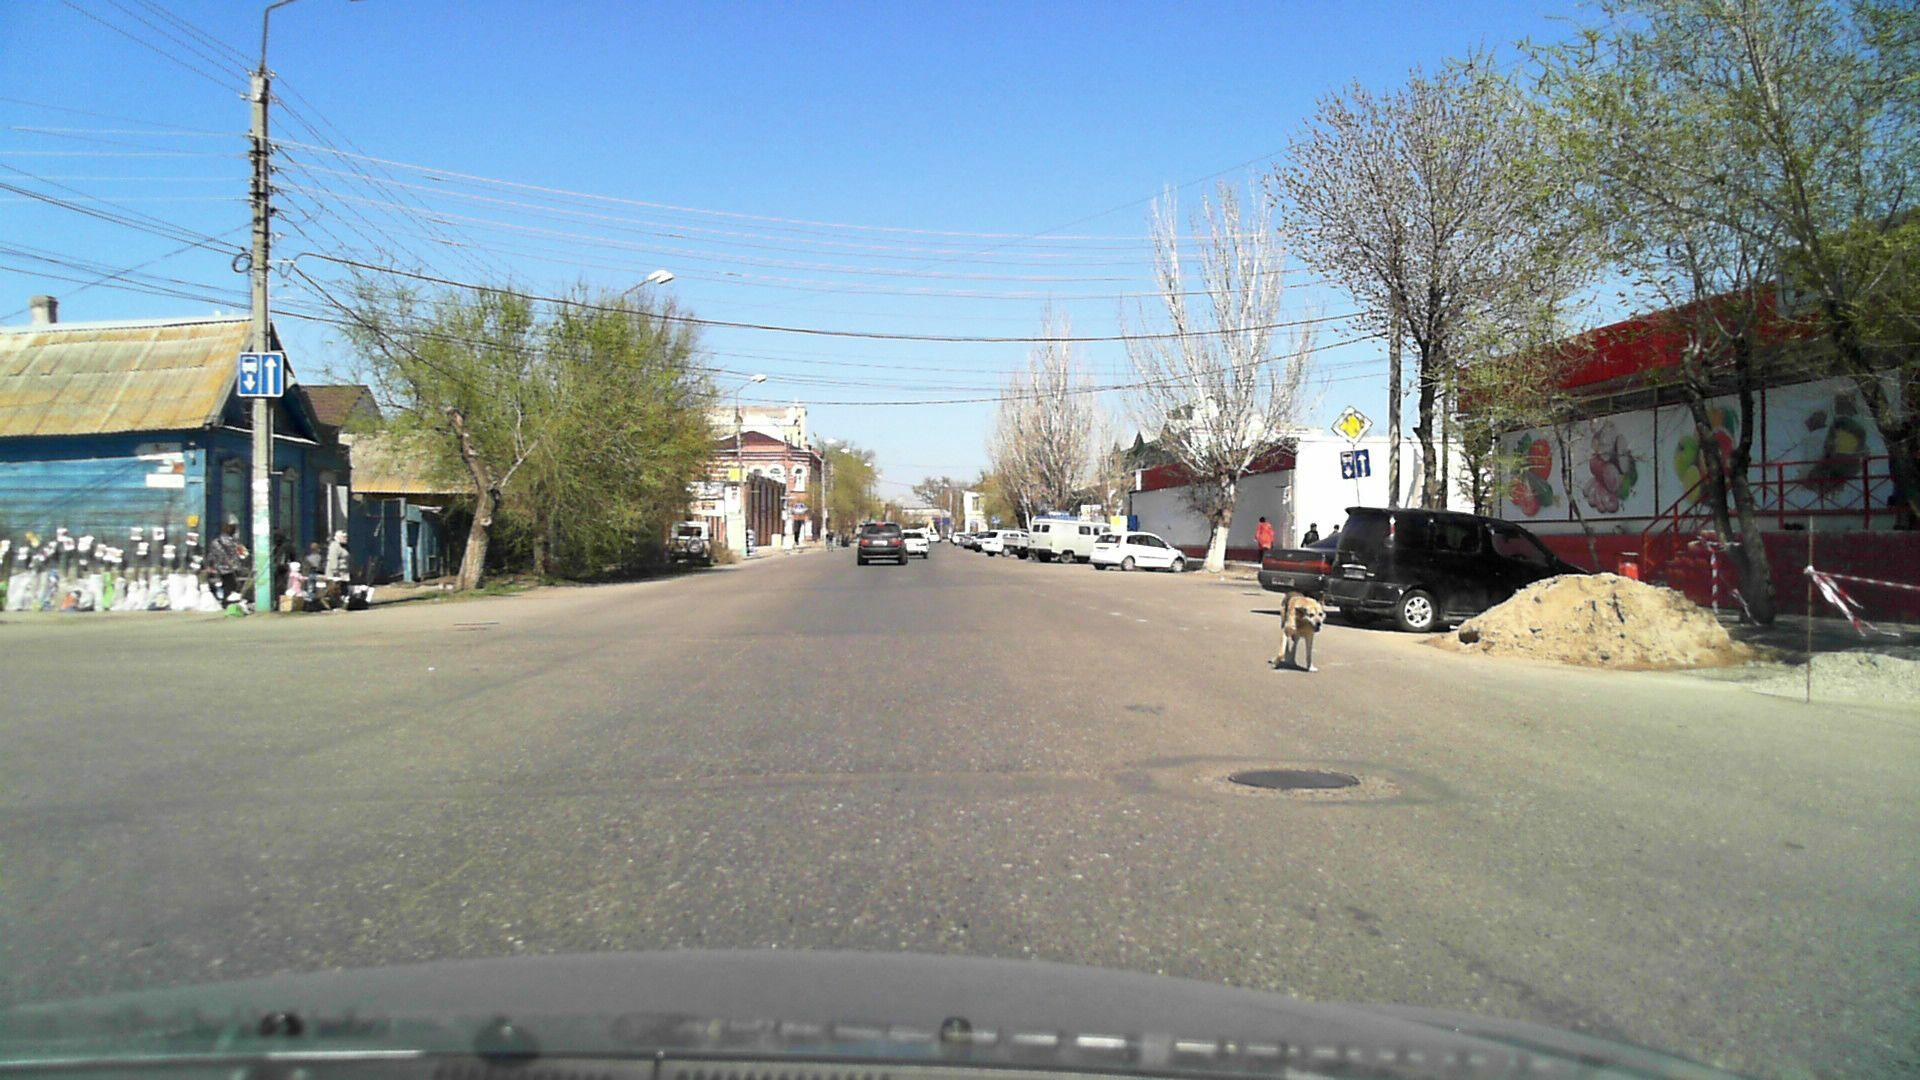2_1: (1327, 405, 1374, 444)
5_11_1: (235, 347, 286, 398), (1340, 447, 1373, 479)
